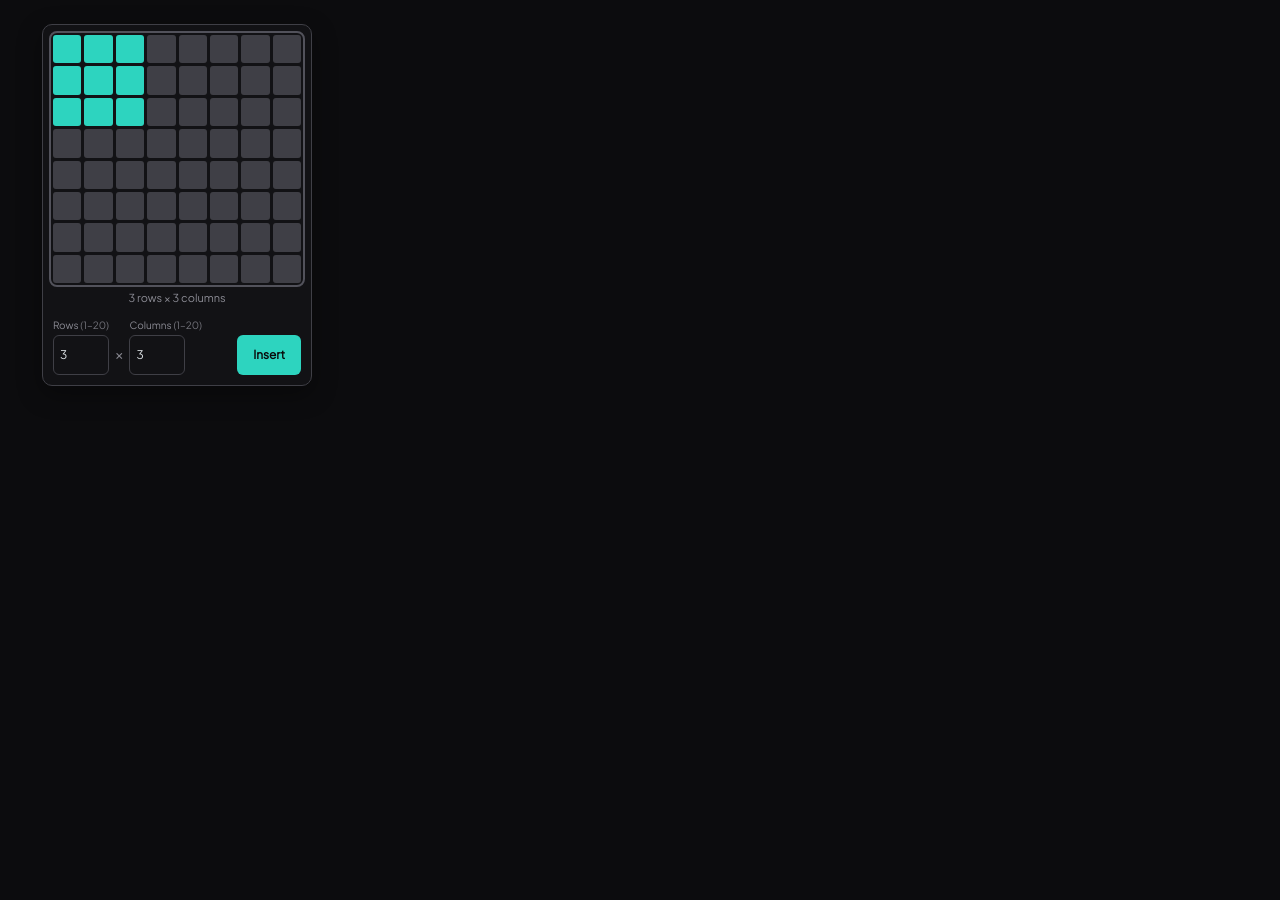
Test: TableSizePicker › visibly corrects out-of-range input (non-silent clamp)
Replace the text in the number field named "Rows" with "50" at {"x": 81, "y": 355}, box [53, 335, 109, 375]
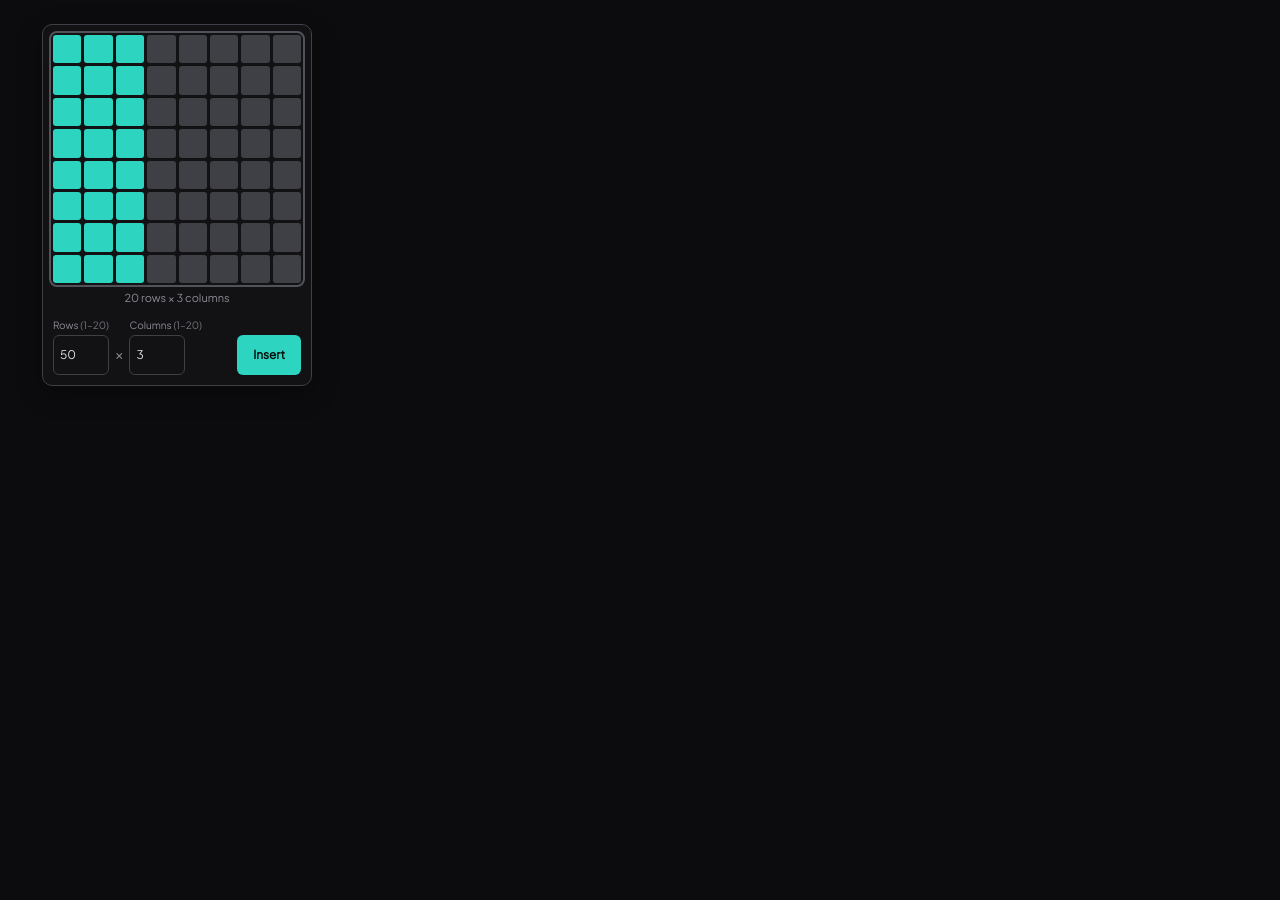
Leave the number field named "Rows", box [53, 335, 109, 375]
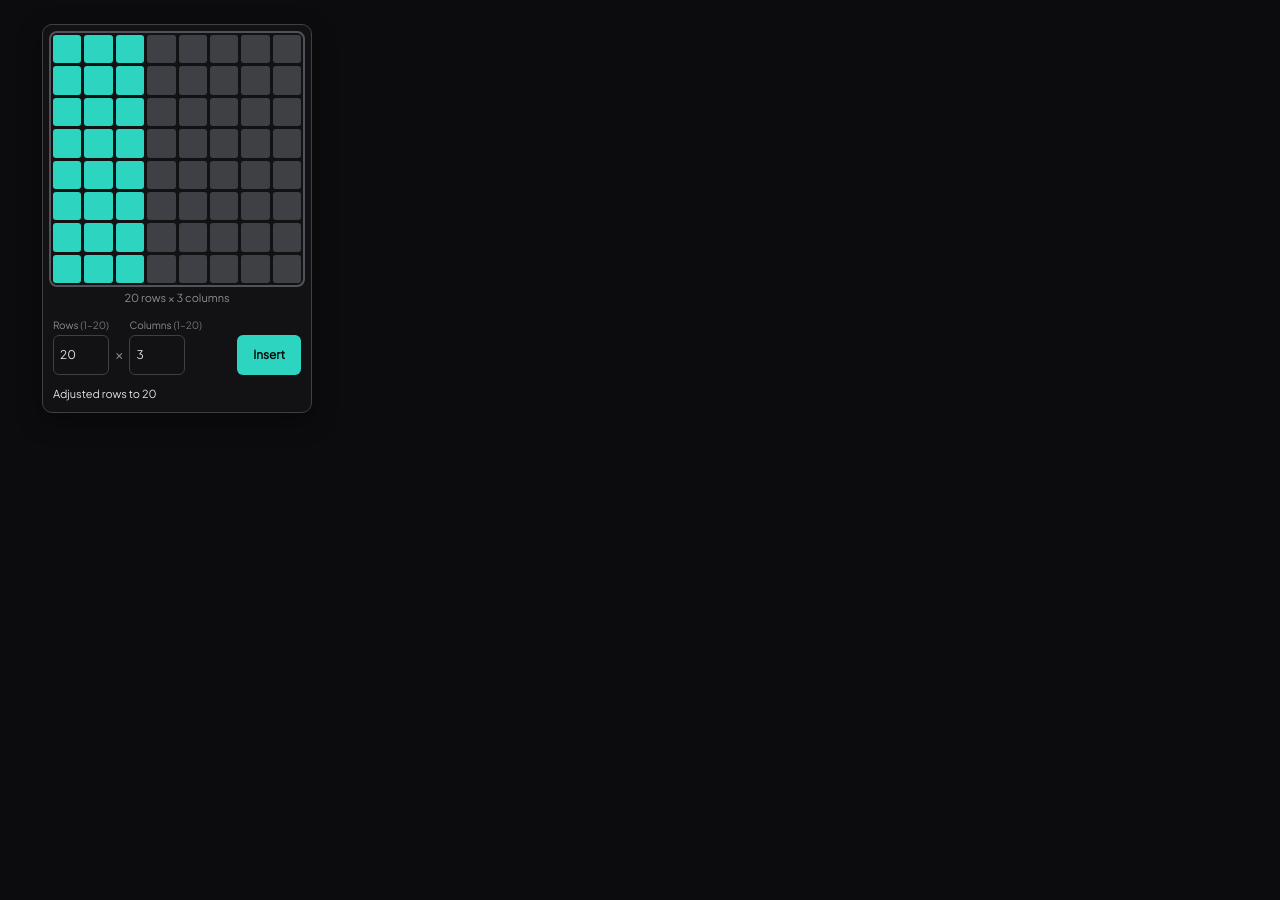
Check: the text "Adjusted rows to 20" is shown, box [53, 387, 157, 400]
Check: the number field named "Rows" holds "20", box [53, 335, 109, 375]
